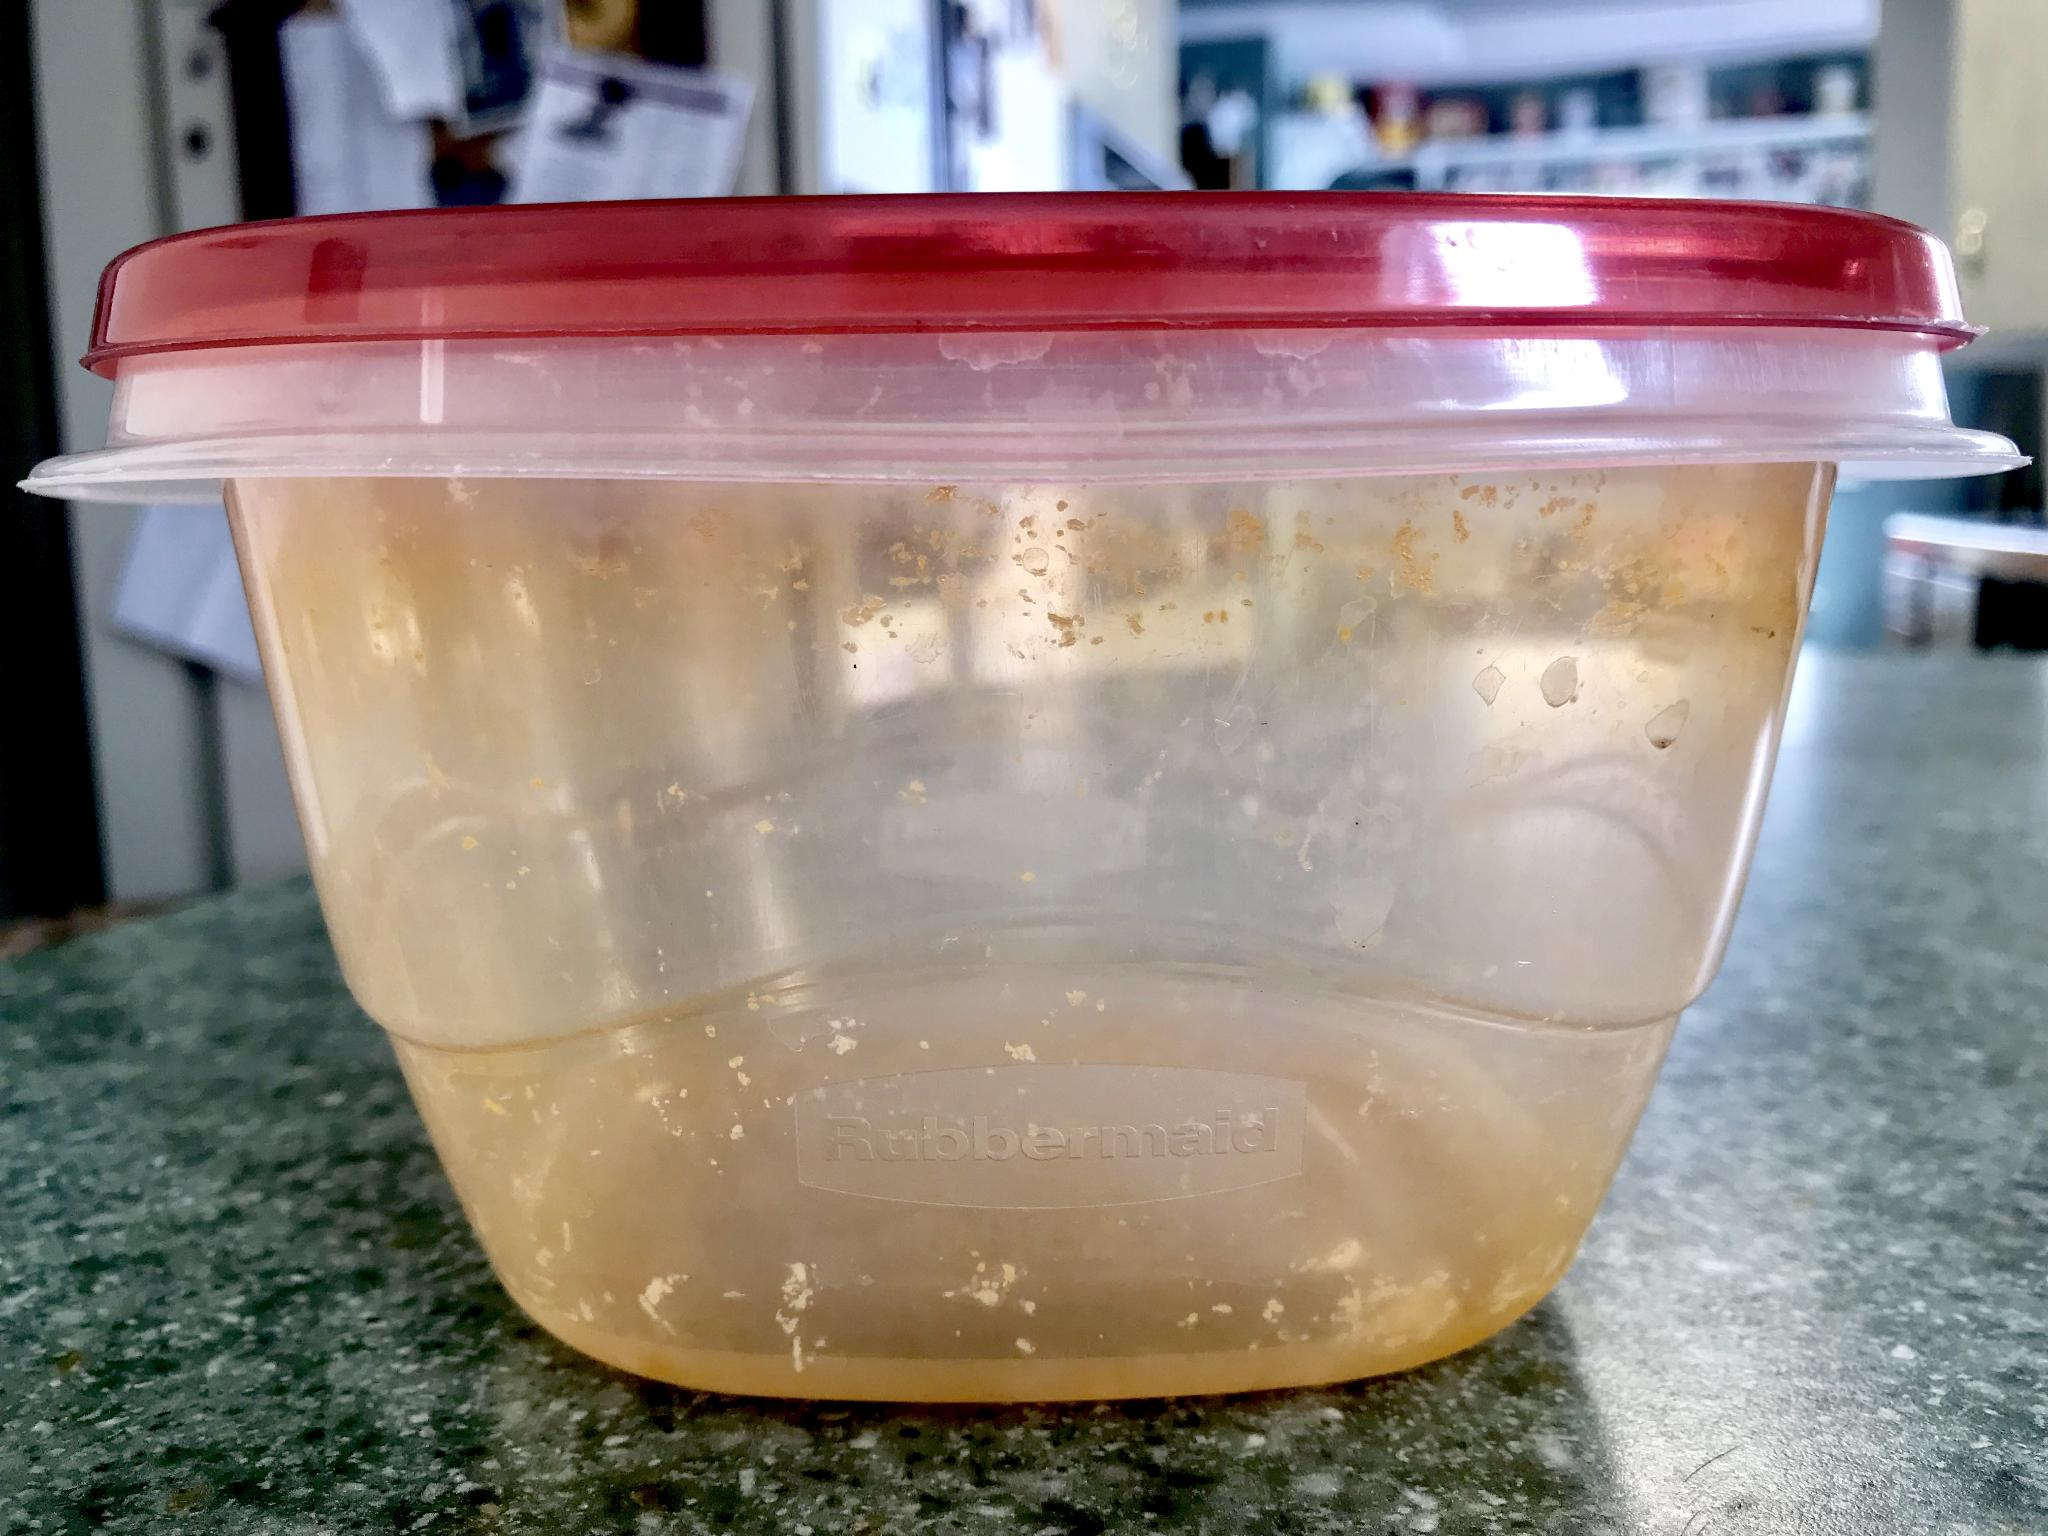plastic: (50, 200, 2008, 1405)
